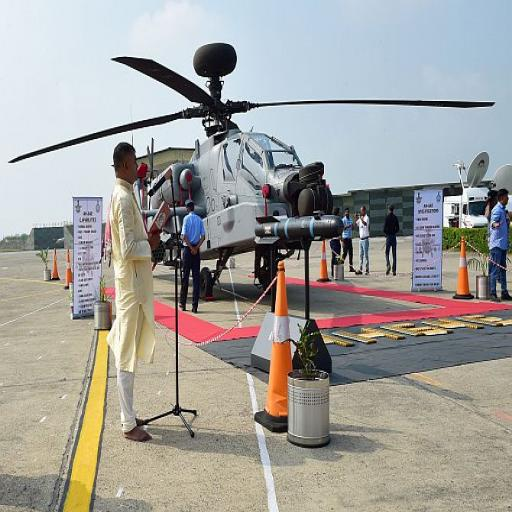helicopter: (24, 13, 399, 301)
